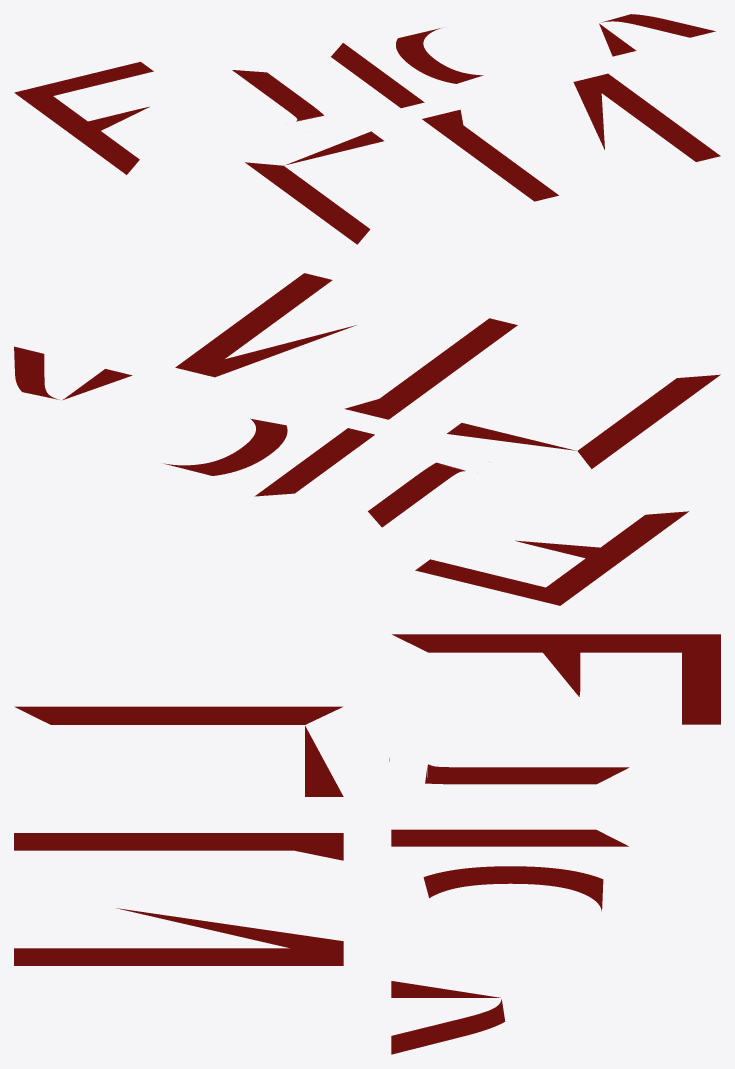
The model's file is Old sign.fbx.
The picture shows the model from 3 angles, top to bottom: view 1: azimuth 30°, elevation 25°; view 2: azimuth 150°, elevation 25°; view 3: azimuth 270°, elevation 25°; orthographic projection. The views are drawn at different scales.
Parts seen in each view (by area): view 1: Sign BM; view 2: Sign BM; view 3: Sign BM.
Boxes of the visible parts, x1,y1,x2,y2 form: Sign BM: (14,14,720,244); Sign BM: (14,273,720,605); Sign BM: (14,634,720,1054).
Size of the model in its own units: 158 by 1.83e-05 by 112.
